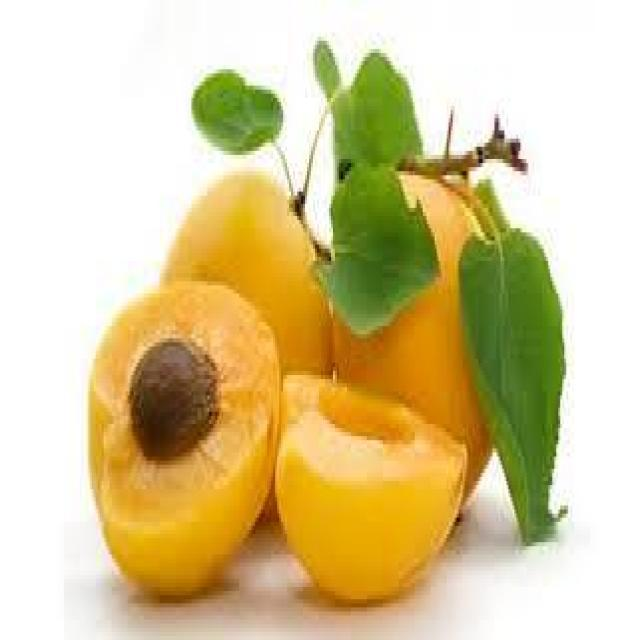cekirdek: (128, 328, 224, 458)
kayisi: (86, 274, 282, 595), (274, 364, 470, 609)
yaprak: (454, 217, 574, 544), (311, 158, 441, 344), (311, 31, 427, 169), (186, 63, 286, 166)
